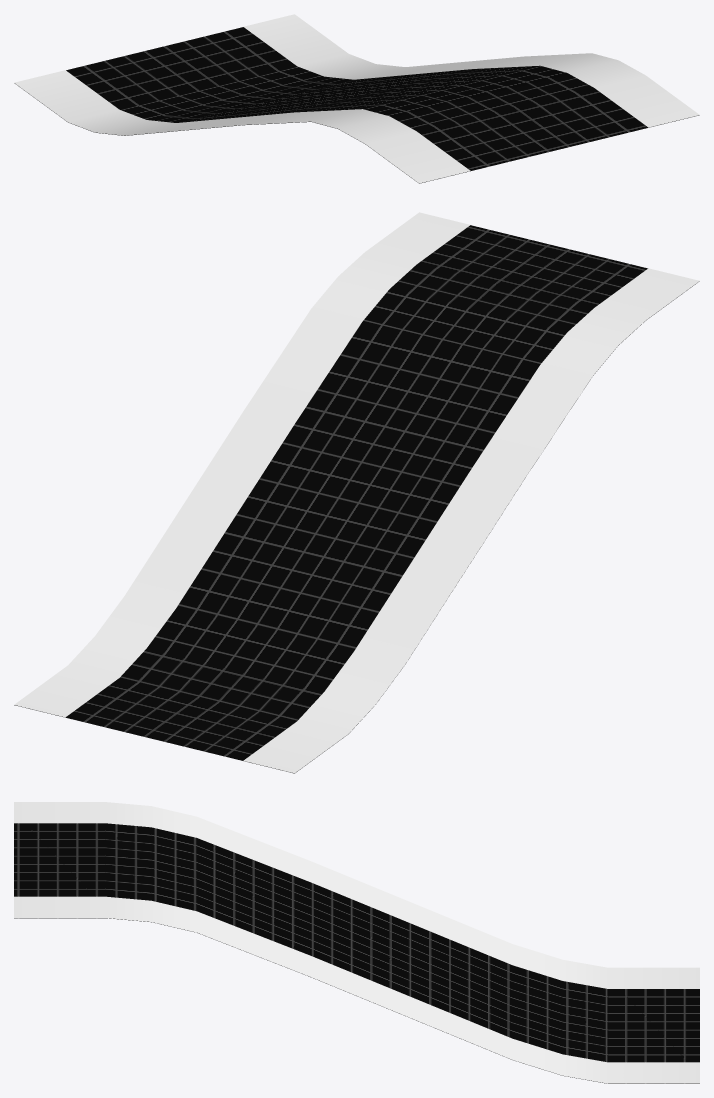
Rendered from grid_ramp_up.FBX.
3 renders of one model, top to bottom at view 1: azimuth 30°, elevation 25°; view 2: azimuth 150°, elevation 25°; view 3: azimuth 270°, elevation 25°, orthographic. The views are drawn at different scales.
Visible parts, largest first — view 1: grid_ramp_up; view 2: grid_ramp_up; view 3: grid_ramp_up.
Boxes of the visible parts, <box> form: grid_ramp_up: <box>14,14,699,183</box>; grid_ramp_up: <box>14,212,699,773</box>; grid_ramp_up: <box>14,802,699,1083</box>.
Bounding box in the file's own units: 60 × 40.05 × 150.
2 materials, 2 textured.
